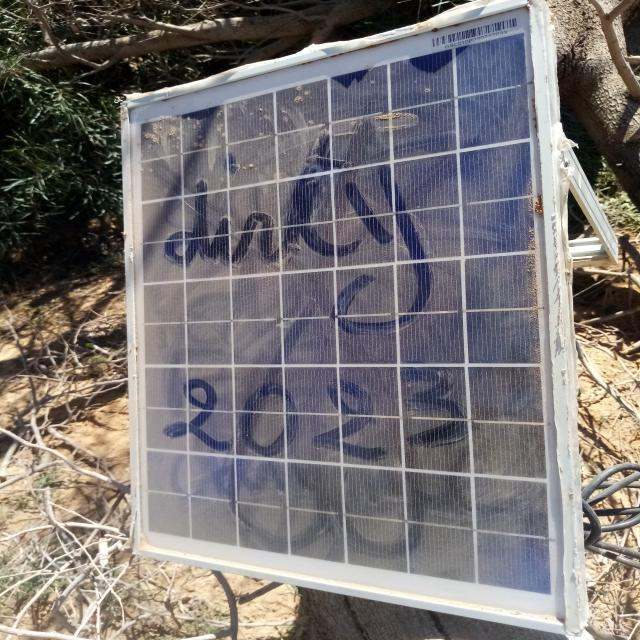faulty: (127, 2, 578, 628)
